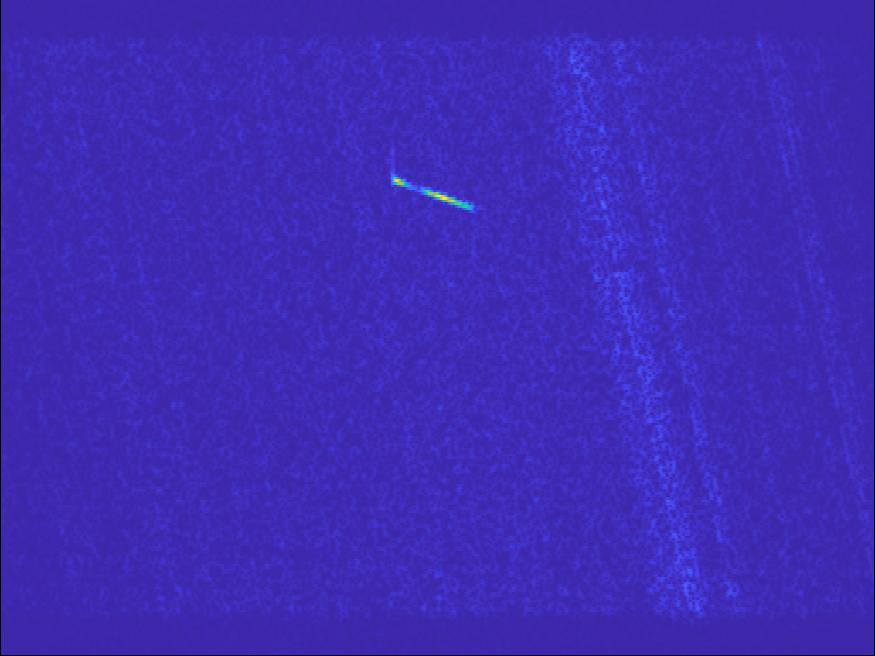Interference: (451, 292, 694, 367), (475, 494, 603, 546), (482, 425, 590, 476)
